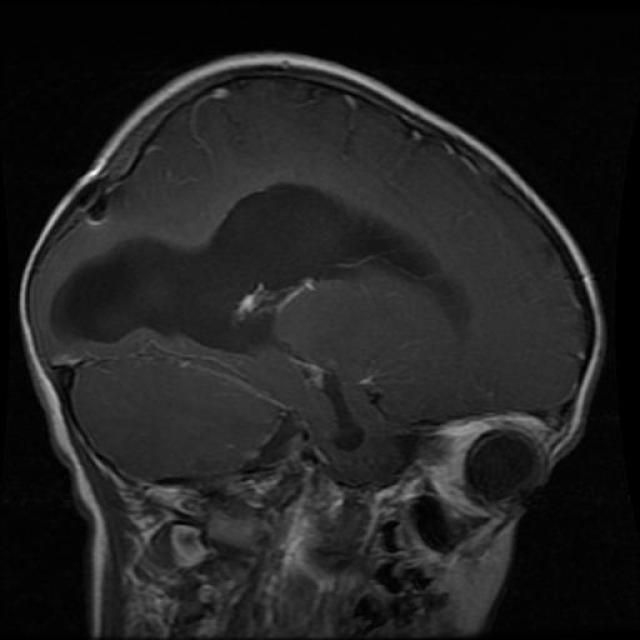glioma: (52, 175, 470, 329)
